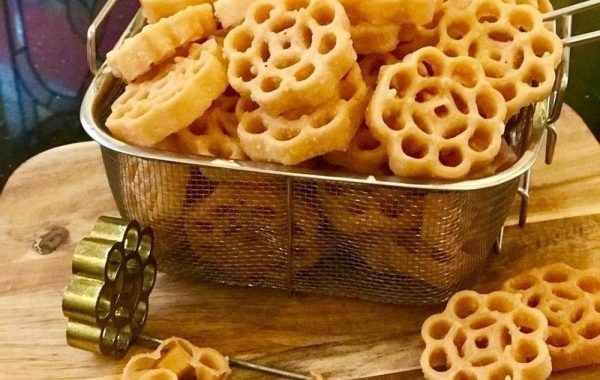kembang_goyang: (377, 50, 497, 184)
